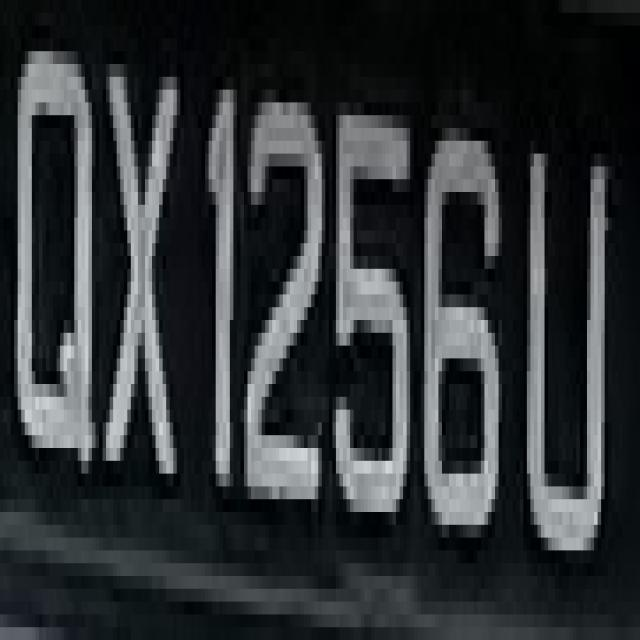1: (198, 39, 237, 538)
2: (230, 64, 325, 576)
5: (326, 90, 418, 538)
6: (420, 77, 506, 550)
Q: (7, 39, 106, 474)
U: (516, 90, 615, 576)
X: (99, 0, 177, 499)
